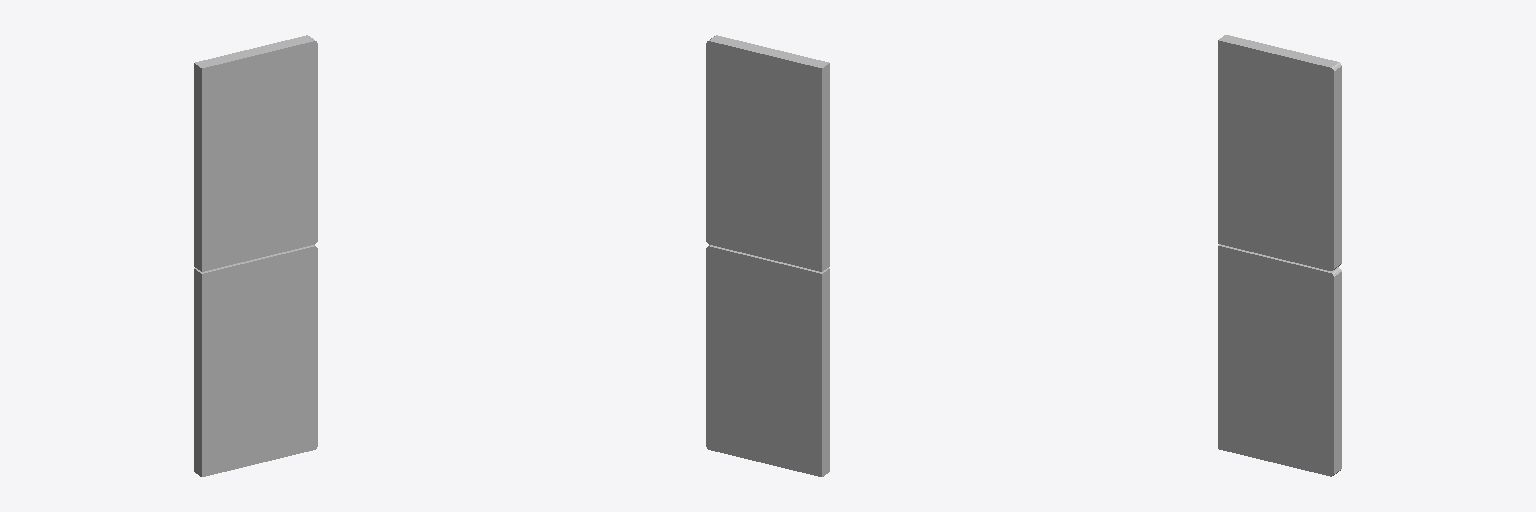
File: boxpsp.obj
3 renders of one model, left to right at view 1: azimuth 30°, elevation 25°; view 2: azimuth 150°, elevation 25°; view 3: azimuth 330°, elevation 25°, orthographic.
Visible parts, largest first — view 1: g0; view 2: g0; view 3: g0.
Part boxes in pixels (x1,y1,x2,y2): g0: (194, 35, 317, 476); g0: (706, 35, 829, 476); g0: (1218, 35, 1341, 476).
Bounding box in the file's own units: 1.44 × 4.84 × 0.1685.